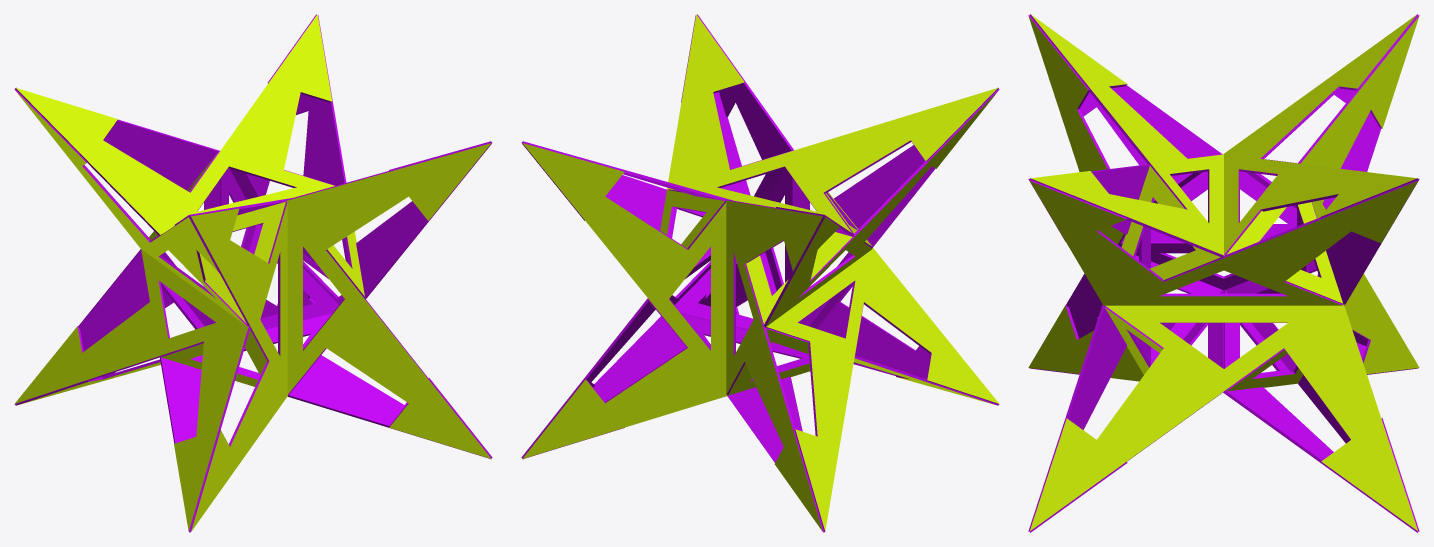
The model's file is ConcaveDodecahedronS.glb.
3 views of the same model, side by side, from view 1: azimuth 30°, elevation 25°; view 2: azimuth 150°, elevation 25°; view 3: azimuth 270°, elevation 25° (orthographic). The views are drawn at different scales.
Parts seen in each view (by area): view 1: Mesh_0001_1, Mesh_0001; view 2: Mesh_0001_1, Mesh_0001; view 3: Mesh_0001_1, Mesh_0001.
Part boxes in pixels (<box>): Mesh_0001_1: <box>15,14,491,531</box>; Mesh_0001: <box>14,14,492,532</box>; Mesh_0001_1: <box>522,14,998,531</box>; Mesh_0001: <box>521,14,999,532</box>; Mesh_0001_1: <box>1028,14,1419,530</box>; Mesh_0001: <box>1028,14,1419,532</box>.
Bounding box in the file's own units: 6.5 × 6.5 × 6.5.
